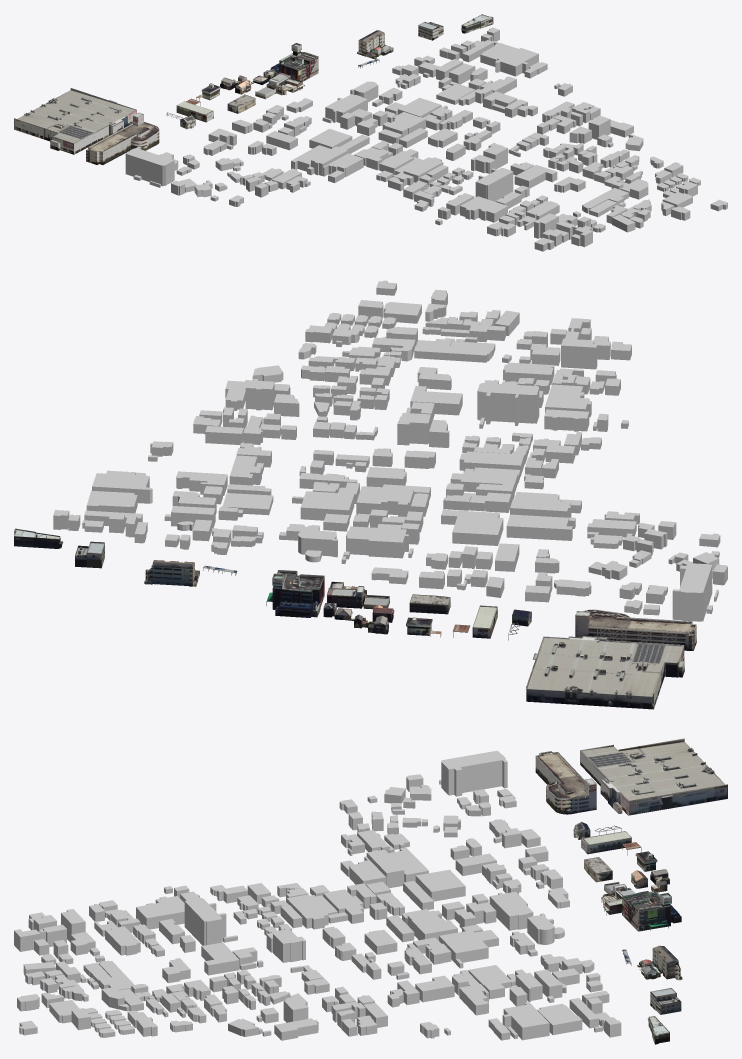
The model's file is 2023-lod3-station-1-2-packed.glb.
3 renders of one model, top to bottom at view 1: azimuth 30°, elevation 25°; view 2: azimuth 150°, elevation 25°; view 3: azimuth 270°, elevation 25°, orthographic. The views are drawn at different scales.
Bounding box in the file's own units: 478 × 23.56 × 495.
5 materials, 4 textured.
